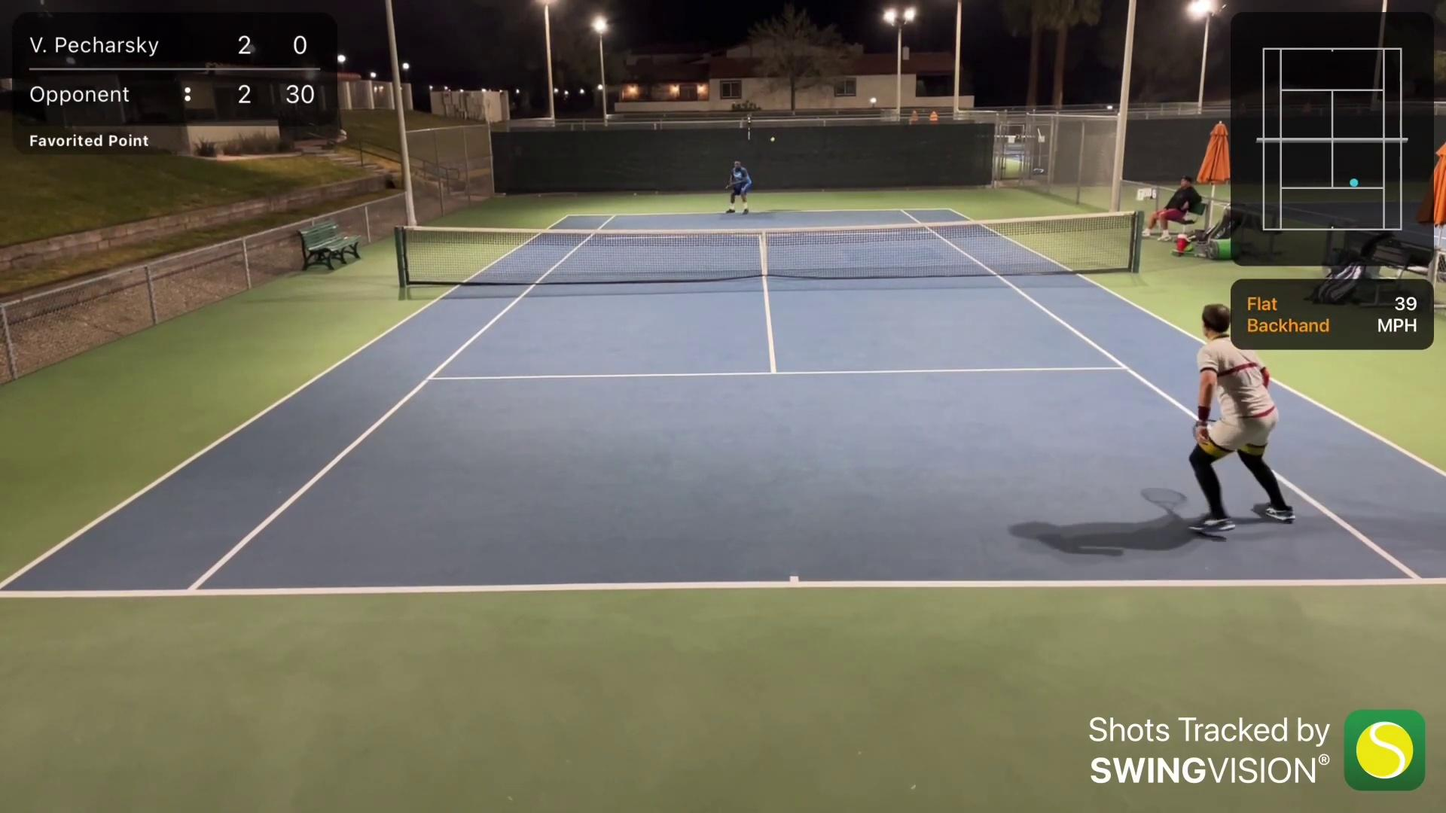ball: (768, 137, 775, 144)
